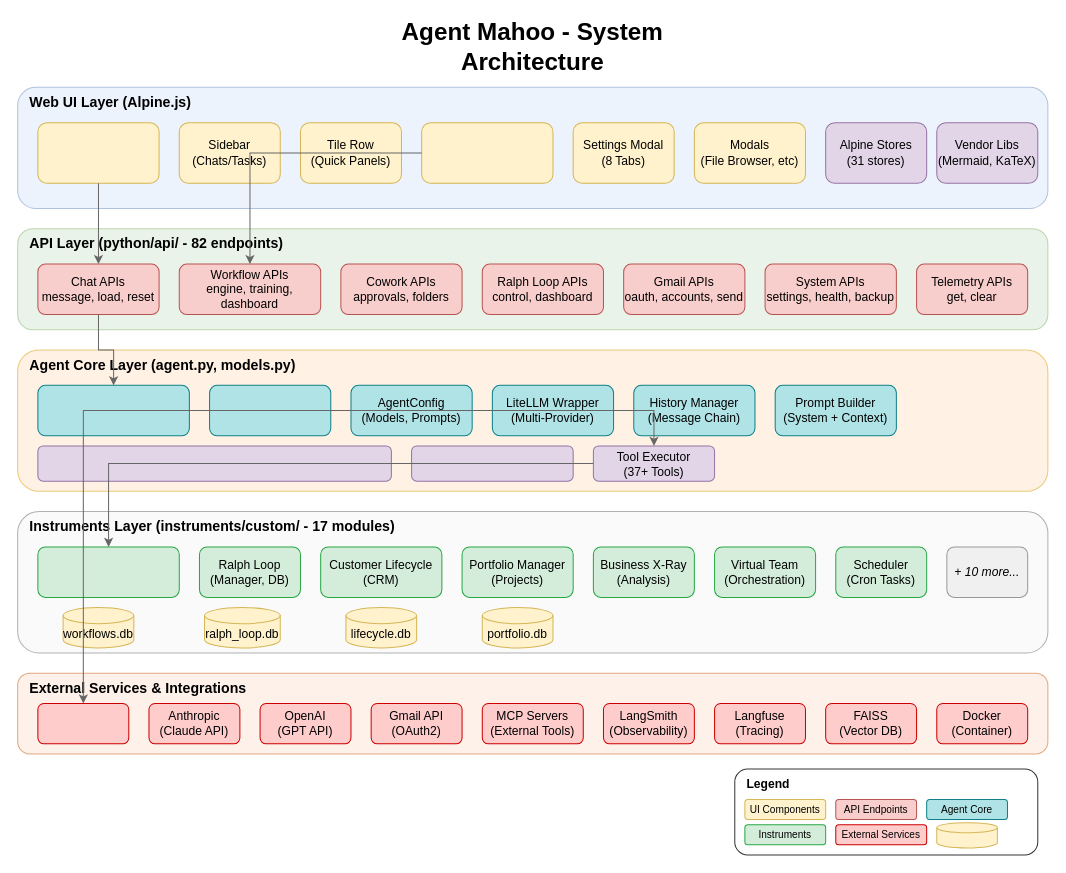
Some shapes in this 1066 by 873 pixel diagram are drawn without their labels. Here are the shapes that lost their labels. From the top down, the box of each, then its label:
(37, 122, 159, 183): Chat Interface (index.html)
(421, 122, 553, 183): Dashboards (Portfolio/Workflows)
(37, 384, 189, 436): AgentContext (USER/TASK/BACKGROUND)
(209, 384, 331, 436): Agent (Monologue Loop)
(37, 445, 391, 481): Extension System (Hooks: monologue, tool, prompt, memory)
(411, 445, 573, 481): MCP Handler (External Tool Protocol)
(37, 546, 179, 597): Workflow Engine (Manager, DB, Visualizer)
(37, 702, 129, 744): Ollama (Local LLM)
(936, 822, 997, 848): Database
